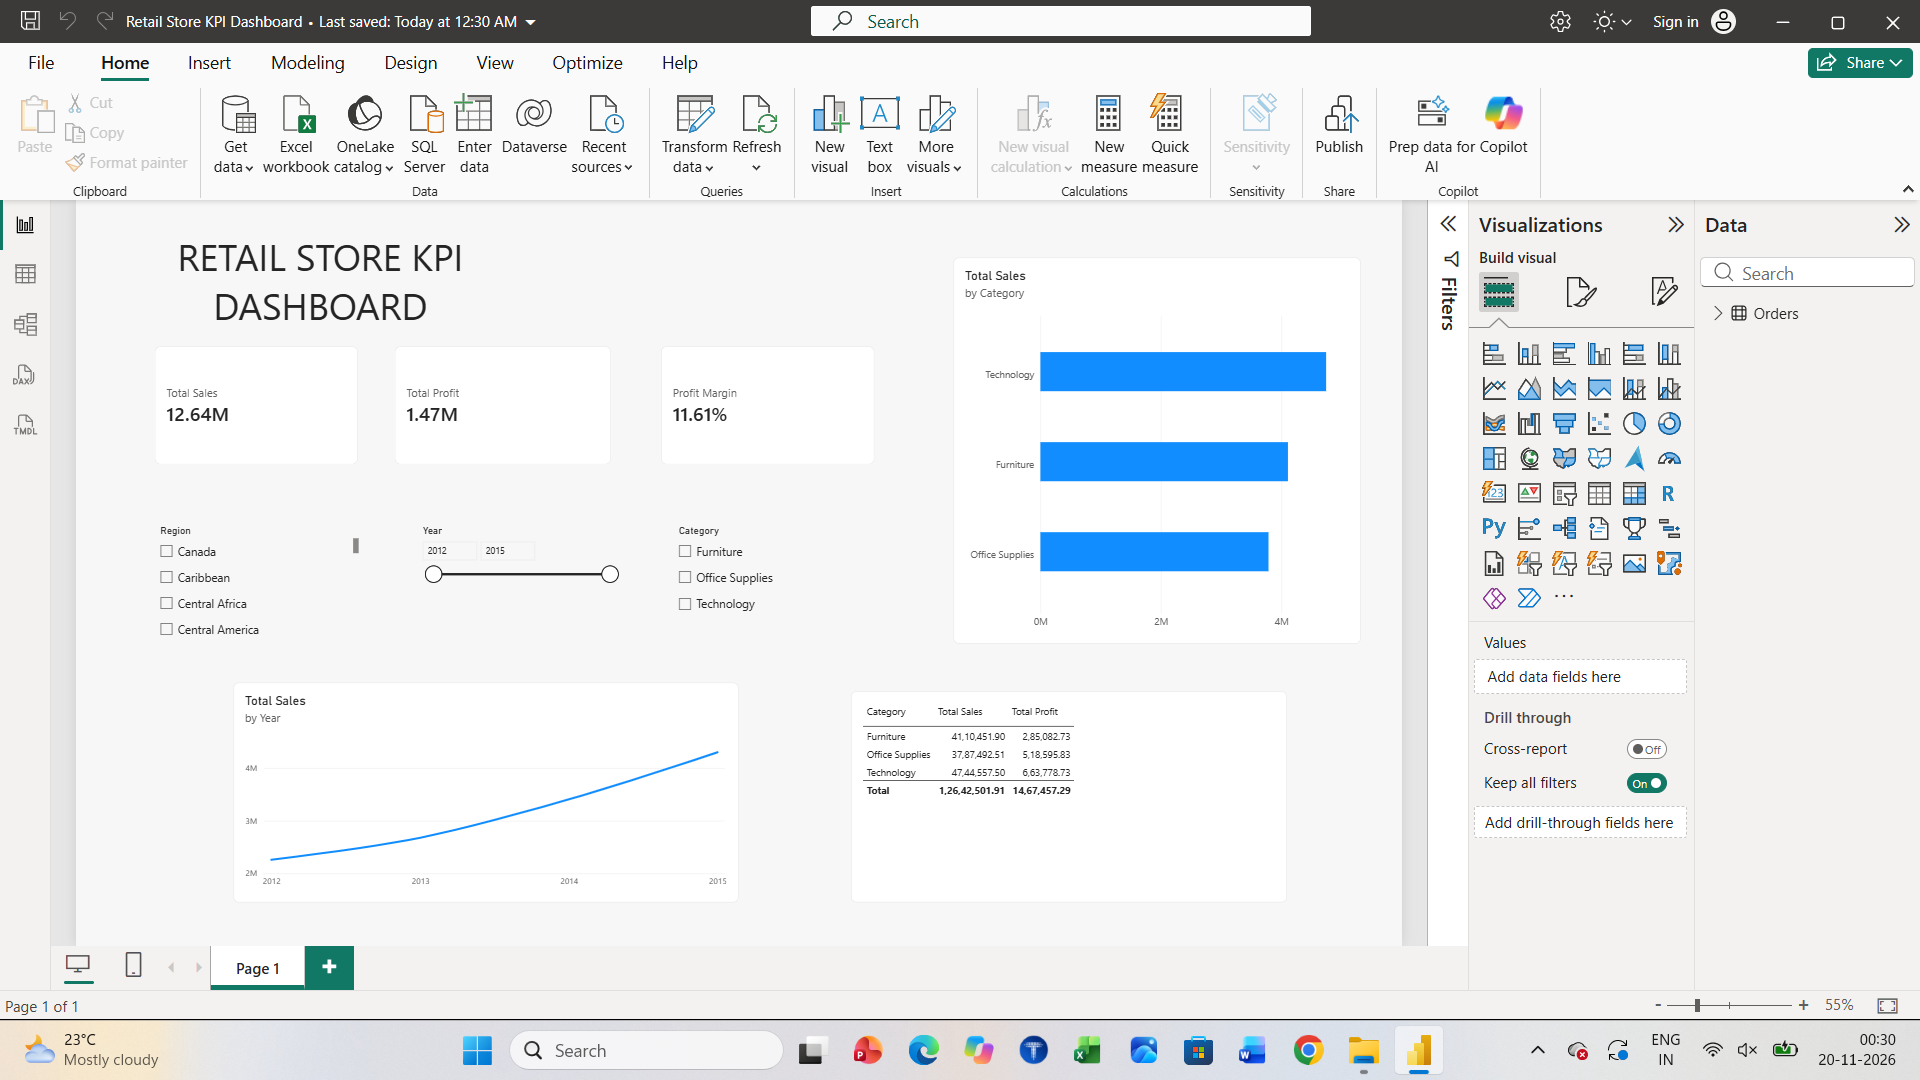

What the dashboard file says about the page in this screenshot:
{"tool":"powerbi","page":{"name":"Page 1","canvas":[1920,1080],"ordinal":0},"visuals":[{"type":"cardVisual","fields":{"Data":["Orders.Total Sales"]},"box":[114,211.7,295,171.9],"z":0},{"type":"cardVisual","fields":{"Data":["Orders.Total Profit"]},"box":[461.5,211.7,313.1,171.9],"z":1},{"type":"cardVisual","fields":{"Data":["Orders.Profit Margin"]},"box":[846.9,211.7,309.5,171.9],"z":2},{"type":"slicer","fields":{"Values":["Orders.Region"]},"box":[114,470.5,295,159.3],"z":3},{"type":"slicer","fields":{"Values":["Orders.Year"]},"box":[494,470.5,295,172],"z":4},{"type":"slicer","fields":{"Values":["Orders.Category"]},"box":[865,470.5,320,172],"z":5},{"type":"clusteredBarChart","fields":{"Category":["Orders.Category"],"Y":["Orders.Total Sales"]},"box":[1270.4,83.2,589.9,559.2],"z":6},{"type":"lineChart","fields":{"Category":["Orders.Order Date.Variation.Date Hierarchy.Year","Orders.Order Date.Variation.Date Hierarchy.Quarter","Orders.Order Date.Variation.Date Hierarchy.Month","Orders.Order Date.Variation.Date Hierarchy.Day"],"Y":["Orders.Total Sales"]},"box":[228,698.5,731.1,318.5],"z":7},{"type":"tableEx","fields":{"Values":["Orders.Category","Orders.Total Sales","Orders.Total Profit"]},"box":[1122,711.2,631.6,305.8],"z":8},{"type":"textbox","box":[114,45.2,479.6,181],"z":9}]}

Visuals, with their boxes on the page's 1920x1080 design canvas (x1, y1, x2, y2). These are canvas units, not pixel positions in the 1920x1080 screenshot, which may show the page scaled, cropped or inside an application window:
cardVisual - Orders.Total Sales: Rect(114, 212, 409, 384)
cardVisual - Orders.Total Profit: Rect(462, 212, 775, 384)
cardVisual - Orders.Profit Margin: Rect(847, 212, 1156, 384)
slicer - Orders.Region: Rect(114, 470, 409, 630)
slicer - Orders.Year: Rect(494, 470, 789, 642)
slicer - Orders.Category: Rect(865, 470, 1185, 642)
clusteredBarChart - Orders.Category x Orders.Total Sales: Rect(1270, 83, 1860, 642)
lineChart - Orders.Order Date.Variation.Date Hierarchy.Year x Orders.Order Date.Variation.Date Hierarchy.Quarter: Rect(228, 698, 959, 1017)
tableEx - Orders.Category x Orders.Total Sales: Rect(1122, 711, 1754, 1017)
textbox: Rect(114, 45, 594, 226)
